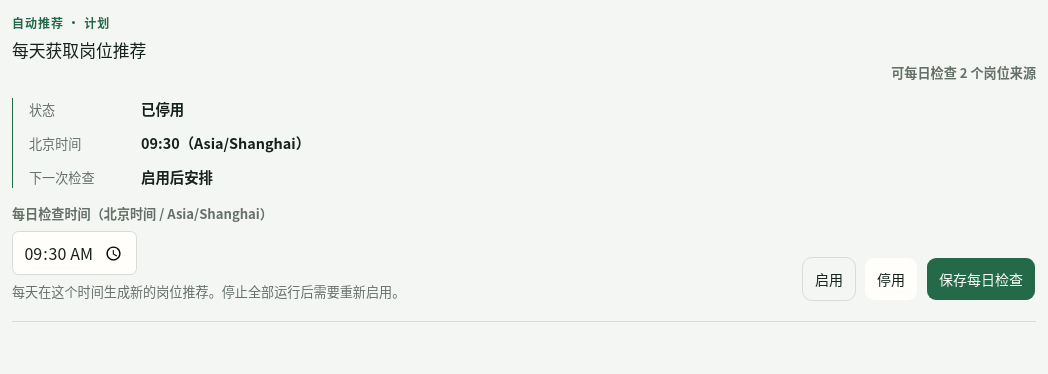
保存中禁用动作，并在策略冲突后显示待接入且禁止继续保存
Check: the text "可每日检查 2 个岗位来源" is shown, box x1=891 y1=63 x2=1036 y2=82
Click the button "保存每日检查" at (981, 279), box x1=926 y1=257 x2=1036 y2=301
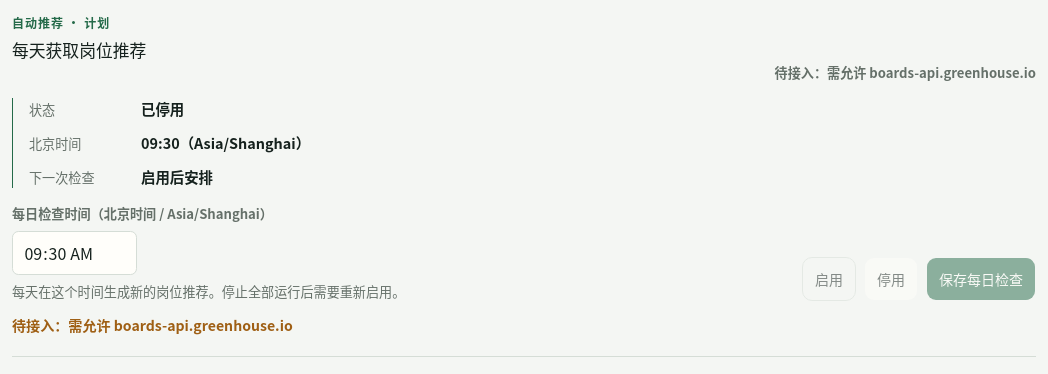
Check: the button named "正在保存…" is disabled, box x1=926 y1=257 x2=1036 y2=301
Check: the text "待接入：需允许 boards-api.greenhouse.io" is shown, box x1=775 y1=63 x2=1036 y2=82
Check: the button "启用" is disabled, box x1=802 y1=257 x2=856 y2=301
